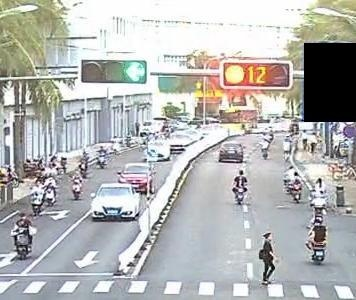greenleft: (123, 61, 147, 83)
red: (223, 62, 245, 85)
redtime: (248, 64, 267, 85)
